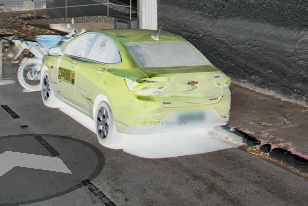car: (37, 20, 240, 146)
